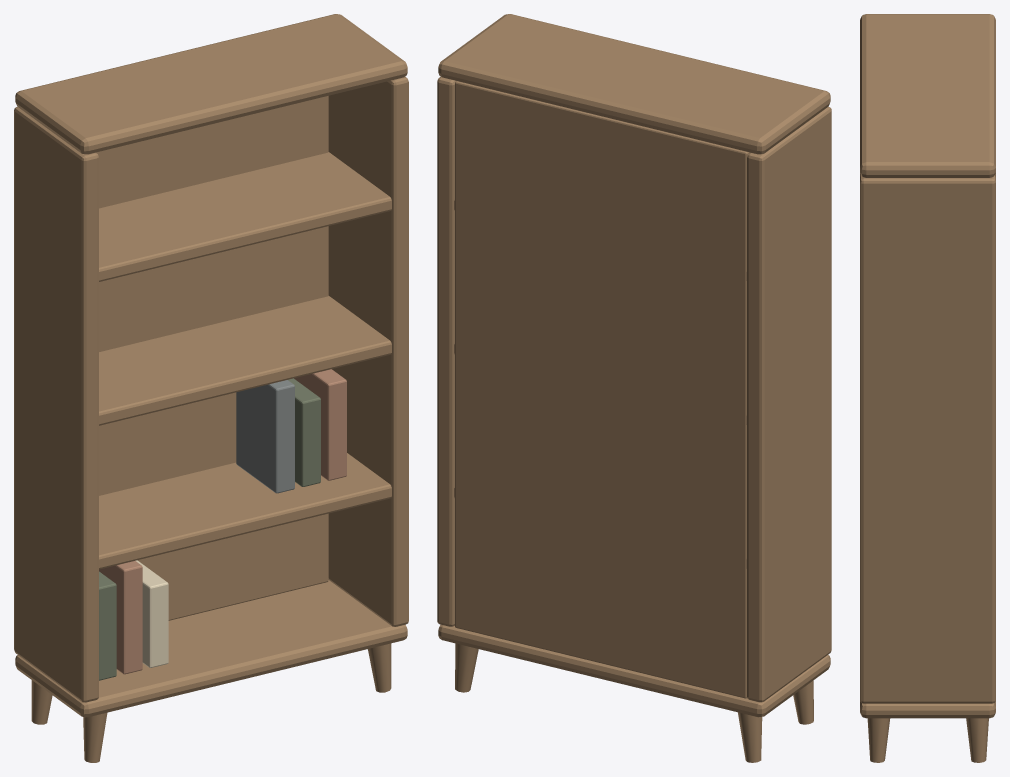
File: storage-open.glb
3 renders of one model, left to right at view 1: azimuth 30°, elevation 25°; view 2: azimuth 150°, elevation 25°; view 3: azimuth 270°, elevation 25°, orthographic. The views are drawn at different scales.
Parts seen in each view (by area): view 1: storage-open; view 2: storage-open; view 3: storage-open.
Part boxes in pixels (x1=…): storage-open: x1=14, y1=14, x2=408, y2=762; storage-open: x1=437, y1=14, x2=831, y2=762; storage-open: x1=860, y1=14, x2=995, y2=762.
Bounding box in the file's own units: 0.88 × 1.62 × 0.33.
